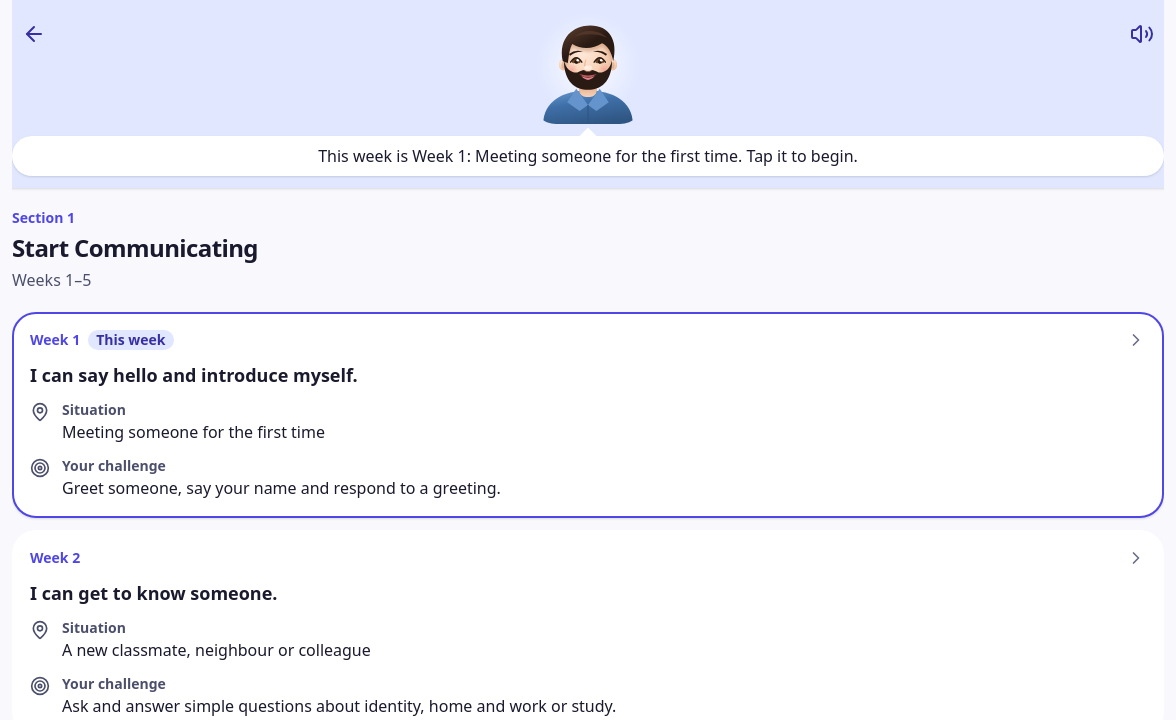
Scenario: SectionPage › marks the week the learner is on, and leads back to the journey
Expected: the heading "Start Communicating" is shown, [12,231,258,264]
Expected: the text "Week 1" is shown, [30,330,80,350]
Click the link named "Back to your journey": (34, 34) [12,12,56,56]
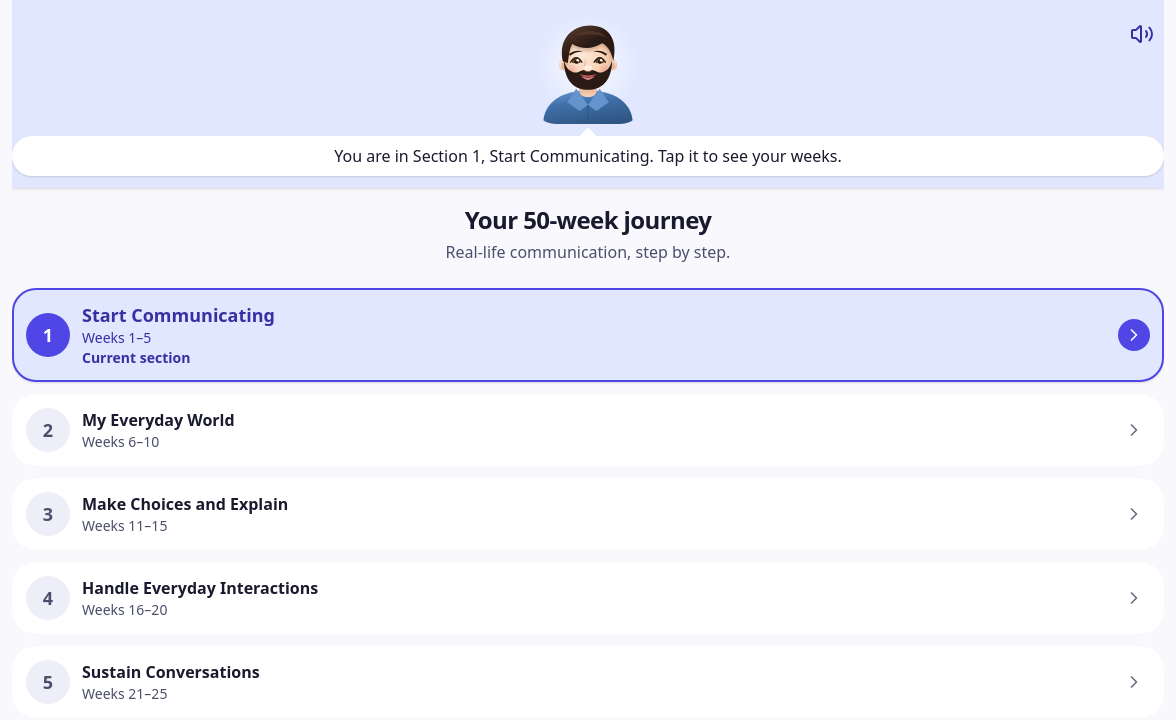
Now the heading "Your 50-week journey" is shown, box [465,203,711,236]
